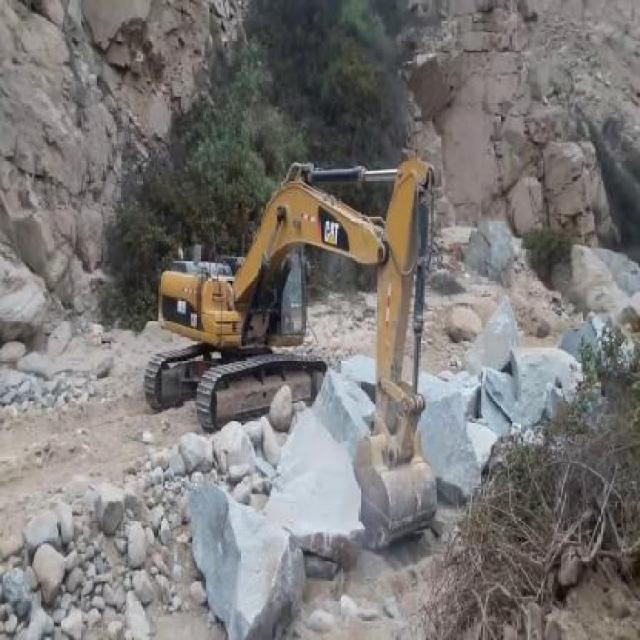Excavator: (144, 157, 438, 552)
